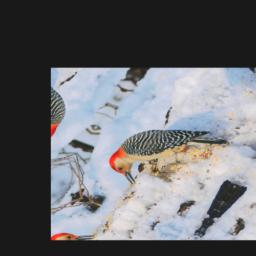Woodpecker: (98, 106, 236, 205)
